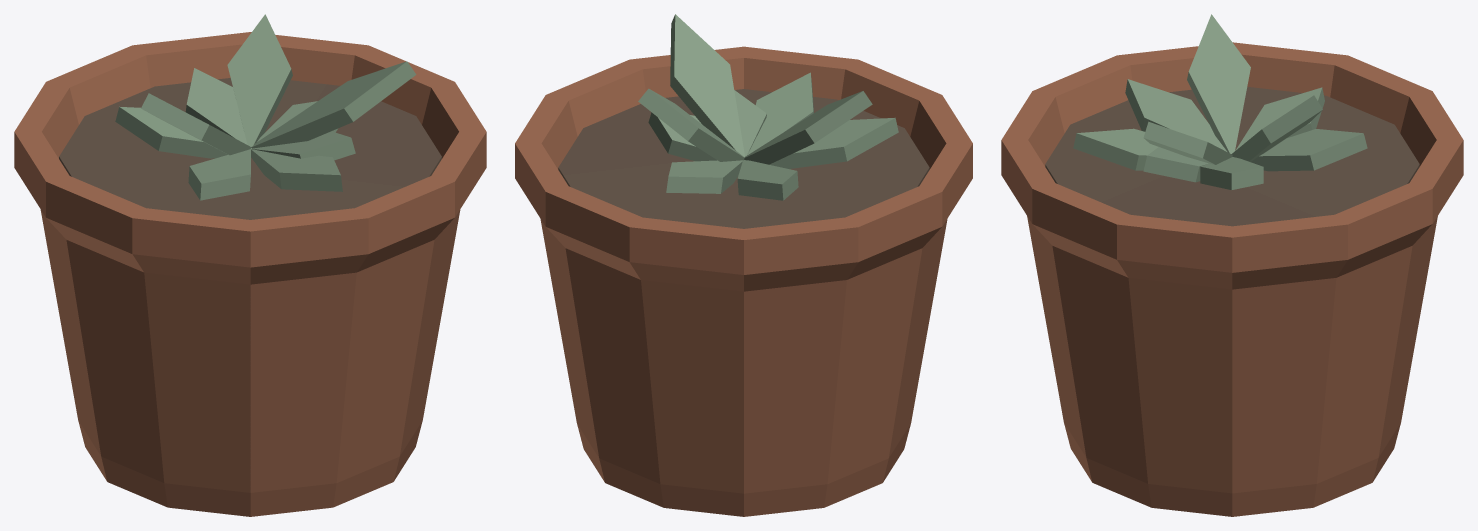
The model's file is new-retusa.glb.
3 renders of one model, left to right at view 1: azimuth 30°, elevation 25°; view 2: azimuth 150°, elevation 25°; view 3: azimuth 270°, elevation 25°, orthographic. The views are drawn at different scales.
Parts seen in each view (by area): view 1: new-retusa/review-terra-vessel, new-retusa/review-rooted-soil, new-retusa/leaf-007, new-retusa/leaf-009, new-retusa/leaf-006, new-retusa/leaf-002, new-retusa/leaf-005, new-retusa/leaf-003, new-retusa/leaf-008, new-retusa/leaf-001; view 2: new-retusa/review-terra-vessel, new-retusa/review-rooted-soil, new-retusa/leaf-009, new-retusa/leaf-003, new-retusa/leaf-008, new-retusa/leaf-006, new-retusa/leaf-007, new-retusa/leaf-002, new-retusa/leaf-005, new-retusa/leaf-004, new-retusa/leaf-001; view 3: new-retusa/review-terra-vessel, new-retusa/review-rooted-soil, new-retusa/leaf-008, new-retusa/leaf-002, new-retusa/leaf-003, new-retusa/leaf-006, new-retusa/leaf-007, new-retusa/leaf-009, new-retusa/leaf-004, new-retusa/leaf-005, new-retusa/leaf-001.
Part boxes in pixels (<box>): new-retusa/review-terra-vessel: <box>14,32,486,516</box>; new-retusa/review-rooted-soil: <box>59,78,441,219</box>; new-retusa/leaf-007: <box>227,14,292,148</box>; new-retusa/leaf-009: <box>251,61,416,148</box>; new-retusa/leaf-006: <box>251,149,342,191</box>; new-retusa/leaf-002: <box>185,68,247,144</box>; new-retusa/leaf-005: <box>115,106,227,158</box>; new-retusa/leaf-003: <box>188,149,250,200</box>; new-retusa/leaf-008: <box>141,93,251,155</box>; new-retusa/leaf-001: <box>252,131,355,160</box>; new-retusa/review-terra-vessel: <box>515,46,972,516</box>; new-retusa/review-rooted-soil: <box>558,89,929,228</box>; new-retusa/leaf-009: <box>670,14,744,156</box>; new-retusa/leaf-003: <box>769,117,898,168</box>; new-retusa/leaf-008: <box>744,91,872,164</box>; new-retusa/leaf-006: <box>747,72,813,155</box>; new-retusa/leaf-007: <box>638,88,744,161</box>; new-retusa/leaf-002: <box>666,160,742,193</box>; new-retusa/leaf-005: <box>737,160,798,200</box>; new-retusa/leaf-004: <box>648,112,716,161</box>; new-retusa/leaf-001: <box>734,90,766,156</box>; new-retusa/review-terra-vessel: <box>1001,42,1463,516</box>; new-retusa/review-rooted-soil: <box>1045,86,1419,226</box>; new-retusa/leaf-008: <box>1187,14,1250,153</box>; new-retusa/leaf-002: <box>1251,129,1367,171</box>; new-retusa/leaf-003: <box>1125,79,1227,151</box>; new-retusa/leaf-006: <box>1073,128,1158,170</box>; new-retusa/leaf-007: <box>1231,95,1322,161</box>; new-retusa/leaf-009: <box>1143,121,1232,164</box>; new-retusa/leaf-004: <box>1200,157,1263,190</box>; new-retusa/leaf-005: <box>1235,87,1324,150</box>; new-retusa/leaf-001: <box>1143,147,1208,182</box>.
Bounding box in the file's own units: 0.19 × 0.173 × 0.19.
3 materials, 3 textured.
